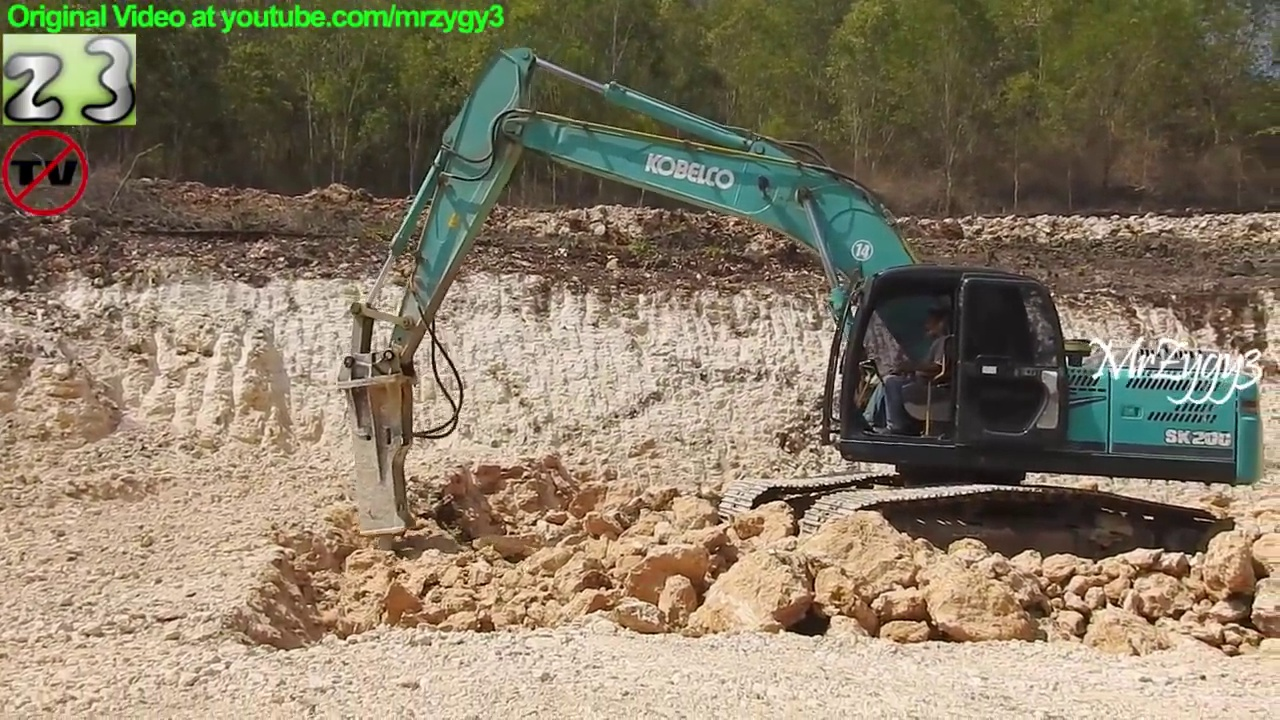excavator breaker: (327, 43, 1268, 579)
